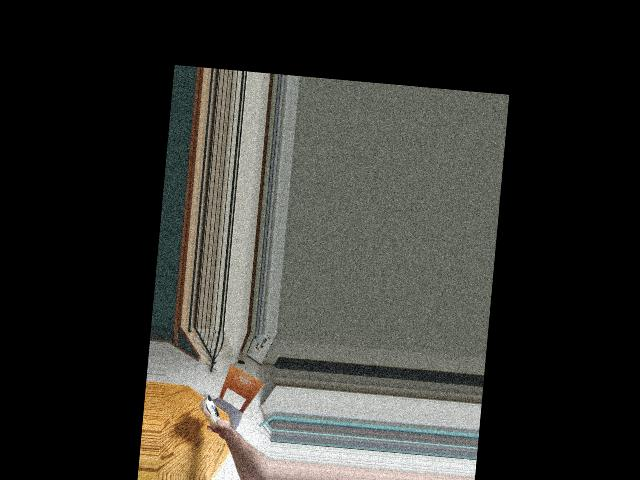cheese: (197, 393, 224, 430)
